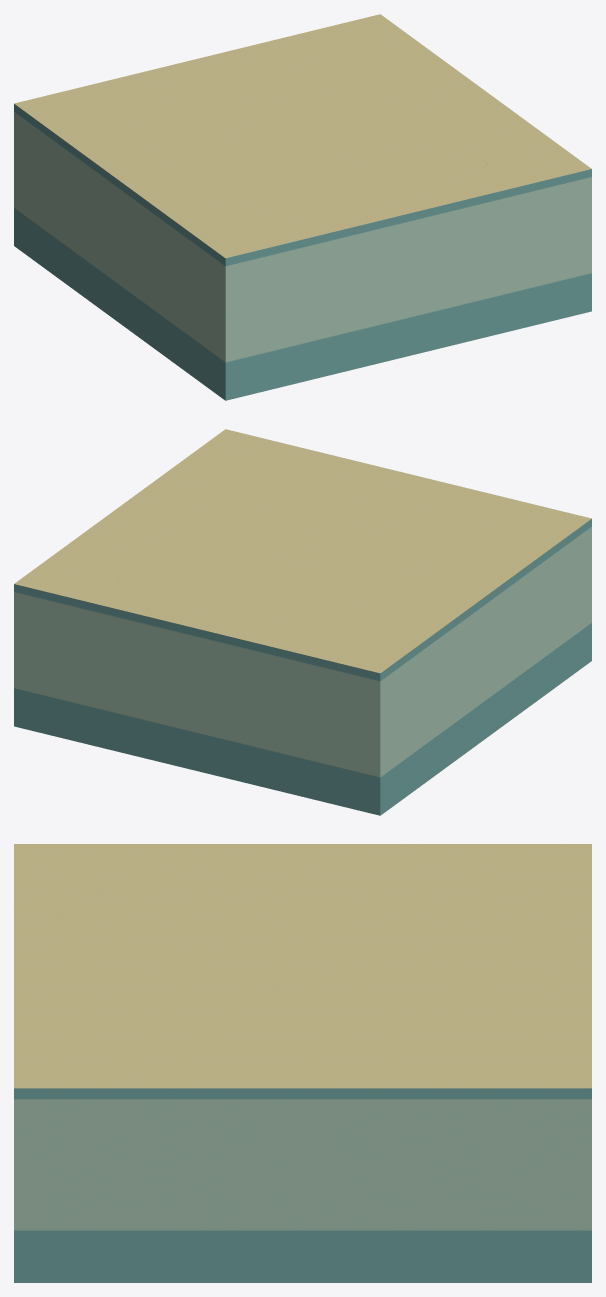
File: Classroom.gltf
3 renders of one model, top to bottom at view 1: azimuth 30°, elevation 25°; view 2: azimuth 150°, elevation 25°; view 3: azimuth 270°, elevation 25°, orthographic. The views are drawn at different scales.
Parts seen in each view (by area): view 1: ClassRoom; view 2: ClassRoom; view 3: ClassRoom.
Boxes of the visible parts, x1,y1,x2,y2 form: ClassRoom: [14, 14, 591, 400]; ClassRoom: [14, 429, 591, 815]; ClassRoom: [14, 844, 591, 1282].
Bounding box in the file's own units: 7 × 2.6 × 7.
1 material, 1 textured.
